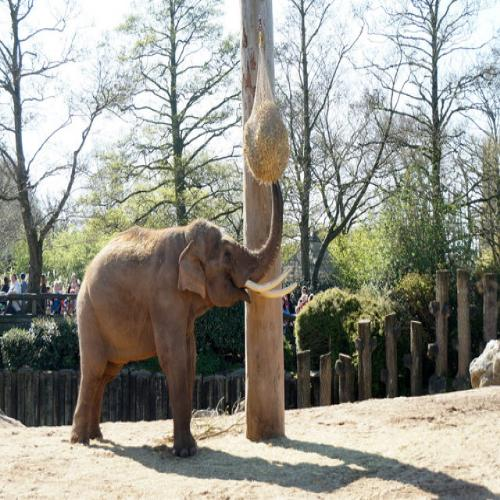asian_elephant-endangered: (72, 183, 296, 455)
